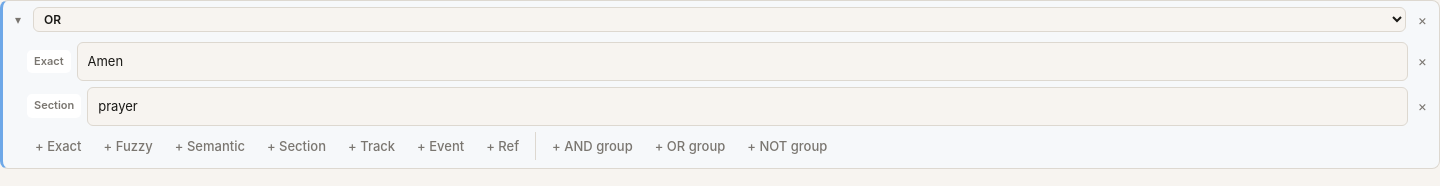
Test case: ConditionTreeEditor › removing a child leaf drops it from the group
Expected: the 1st field showing "Amen" is shown, [76, 42, 1408, 81]
Click the 2nd button titled "Remove": (1422, 61) [1414, 52, 1431, 70]
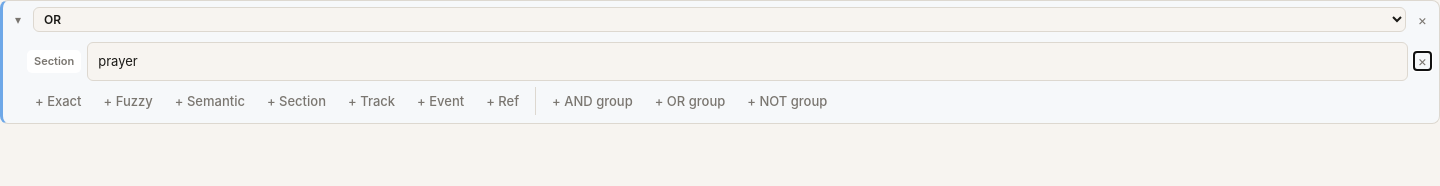
Expected: the field showing "Amen" is not shown
Expected: the field showing "prayer" is shown, [87, 42, 1408, 81]
